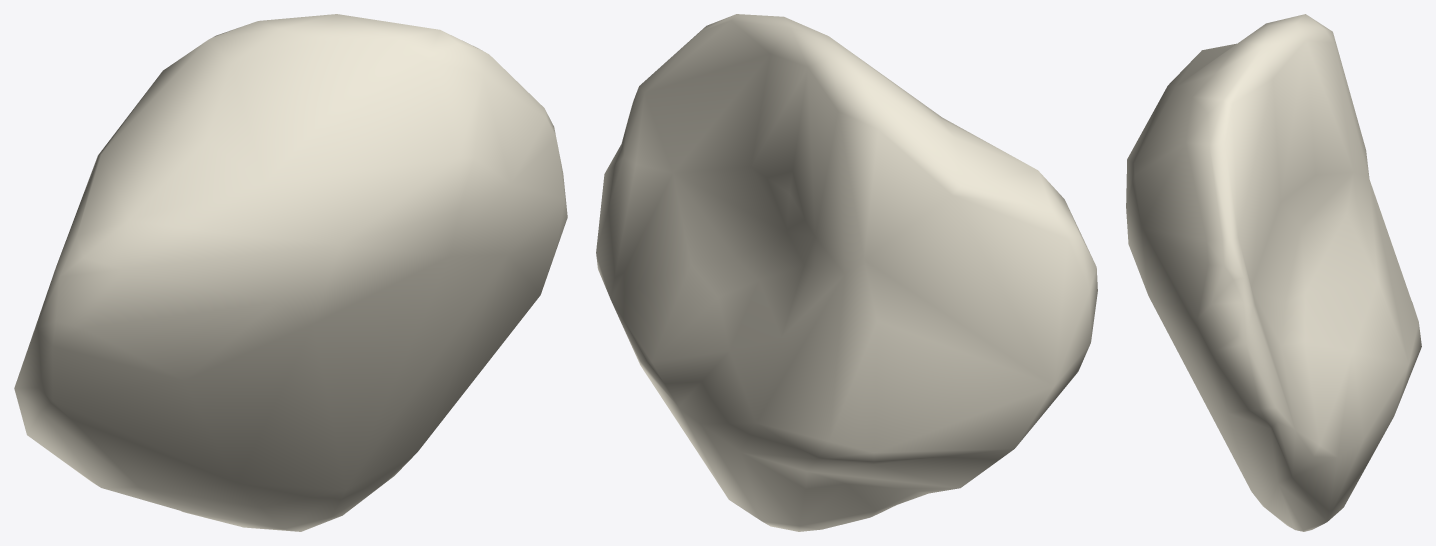
The picture shows the model from 3 angles, left to right: view 1: azimuth 30°, elevation 25°; view 2: azimuth 150°, elevation 25°; view 3: azimuth 270°, elevation 25°; orthographic projection. The views are drawn at different scales.
Parts seen in each view (by area): view 1: ZA_574a0a243828e9be; view 2: ZA_574a0a243828e9be; view 3: ZA_574a0a243828e9be.
Boxes of the visible parts, x1=… form: ZA_574a0a243828e9be: x1=14, y1=14, x2=567, y2=531; ZA_574a0a243828e9be: x1=596, y1=14, x2=1097, y2=531; ZA_574a0a243828e9be: x1=1126, y1=14, x2=1421, y2=531.
Bounding box in the file's own units: 0.0432 × 0.0409 × 0.0228.
